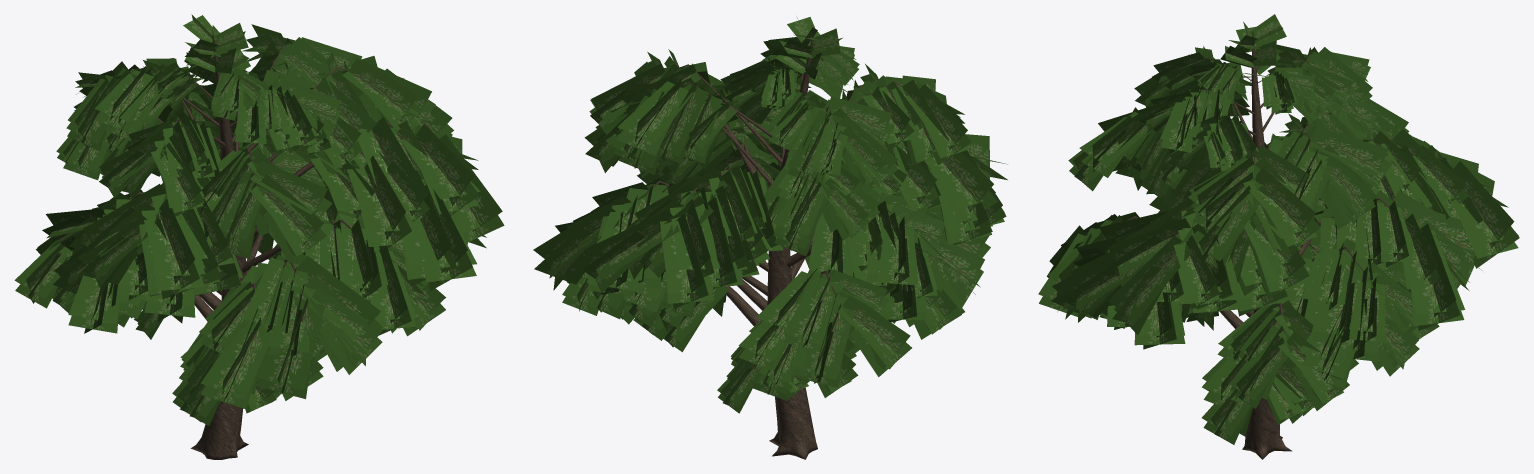
Rendered from white-willow.glb.
3 views of the same model, side by side, from view 1: azimuth 30°, elevation 25°; view 2: azimuth 150°, elevation 25°; view 3: azimuth 270°, elevation 25° (orthographic). The views are drawn at different scales.
Parts seen in each view (by area): view 1: White willow; view 2: White willow; view 3: White willow.
Part boxes in pixels (left/top/right/bottom): White willow: left=14, top=14, right=504, bottom=459; White willow: left=533, top=17, right=1007, bottom=459; White willow: left=1038, top=14, right=1519, bottom=459.
Size of the model in its own units: 10.99 by 11.6 by 12.01.
Materials: 2 (2 with a texture image).
